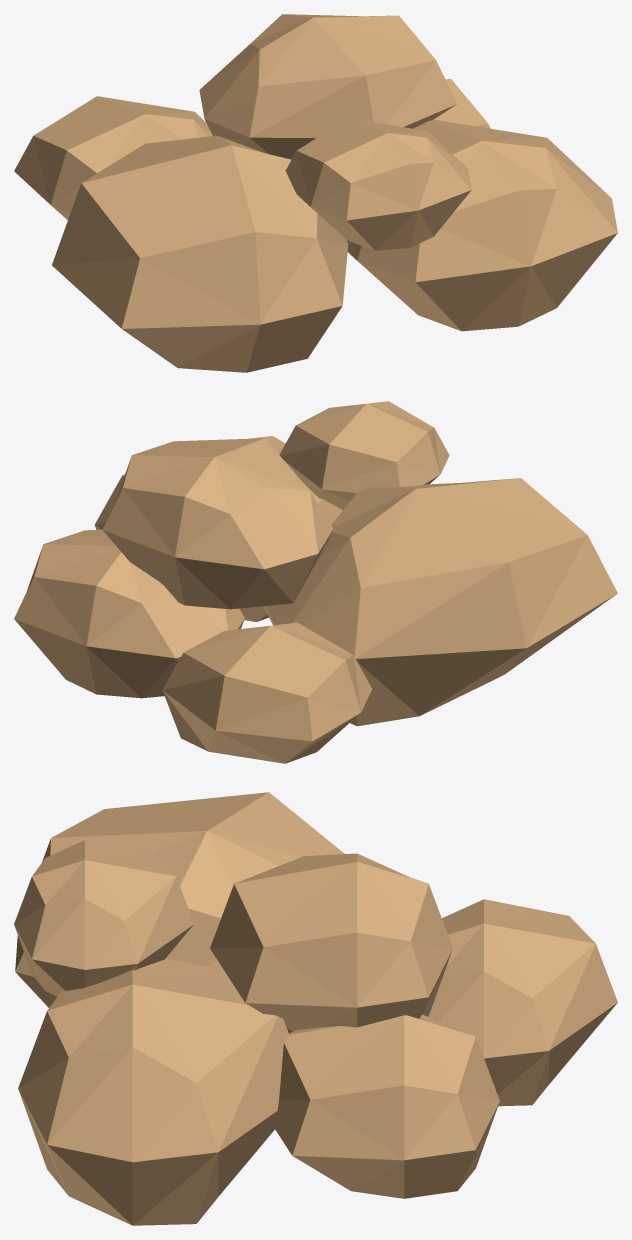
Rendered from Rocks_4.fbx.
3 renders of one model, top to bottom at view 1: azimuth 30°, elevation 25°; view 2: azimuth 150°, elevation 25°; view 3: azimuth 270°, elevation 25°, orthographic. The views are drawn at different scales.
Parts seen in each view (by area): view 1: Rocks_4; view 2: Rocks_4; view 3: Rocks_4.
Boxes of the visible parts, x1=… form: Rocks_4: x1=14, y1=14, x2=617, y2=372; Rocks_4: x1=14, y1=401, x2=617, y2=763; Rocks_4: x1=14, y1=792, x2=617, y2=1225.
Size of the model in its own units: 90.89 by 80.25 by 40.17.
